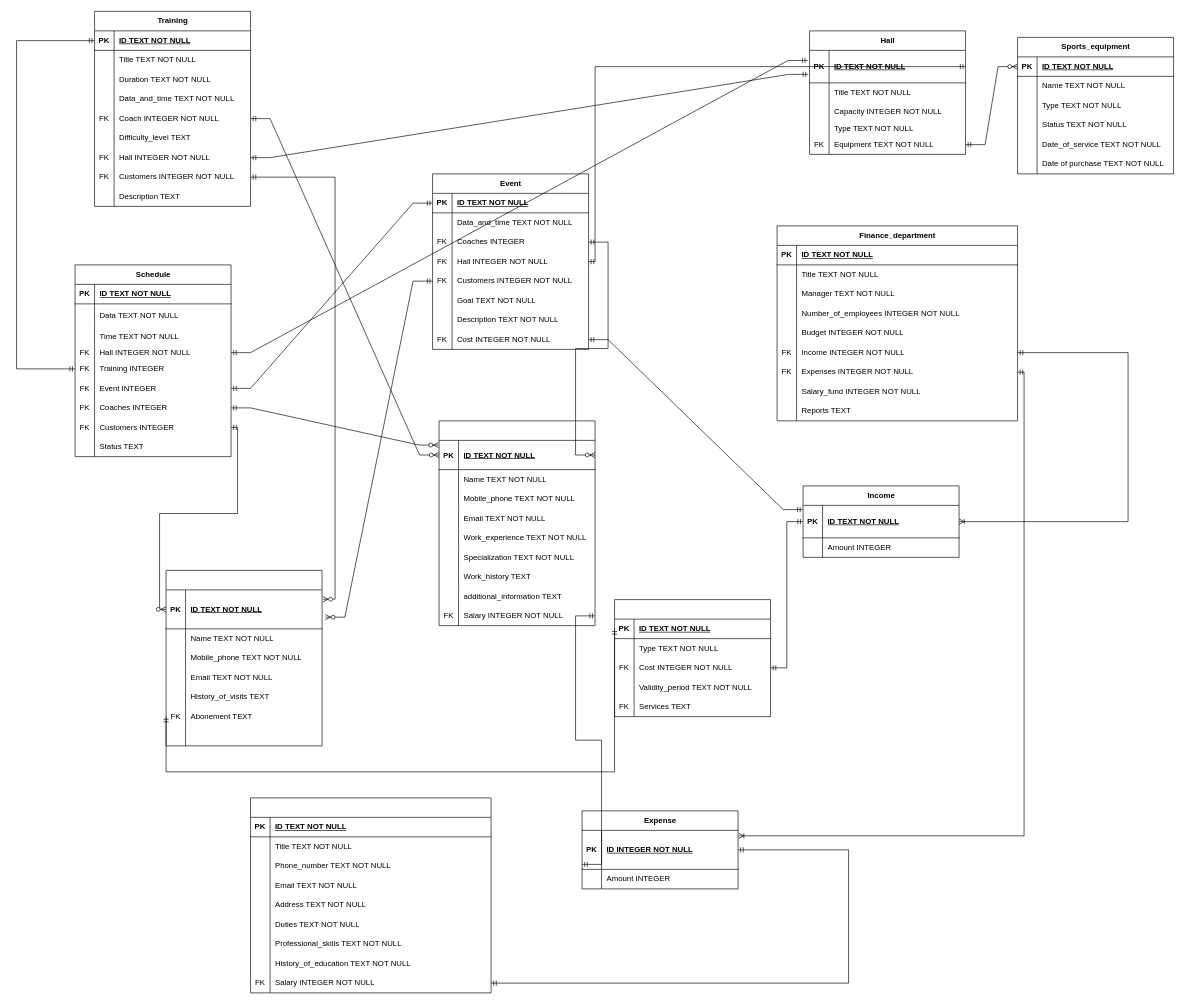
Some shapes in this 1185 by 1004 pixel diagram are drawn without their labels. Each missing label, with the box of its shape:
Administrator: (250, 797, 491, 993)
Season_ticket: (614, 599, 771, 717)
User: (165, 570, 322, 746)
Сoach: (438, 420, 595, 626)
